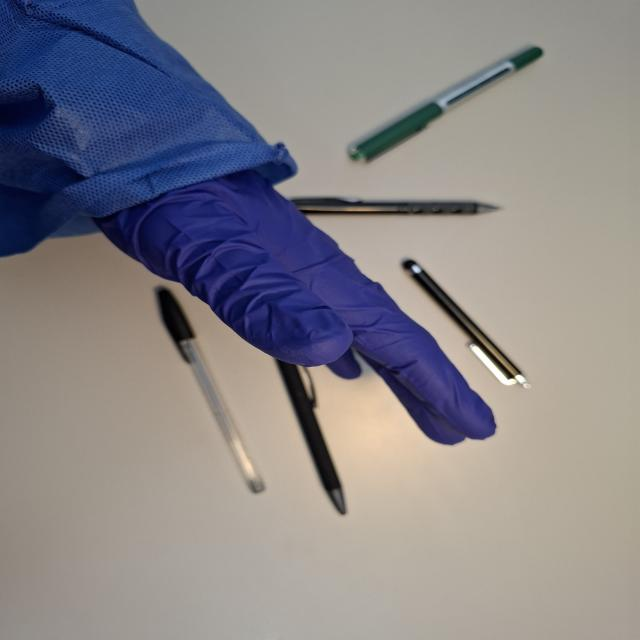glove_on: (82, 150, 500, 448)
